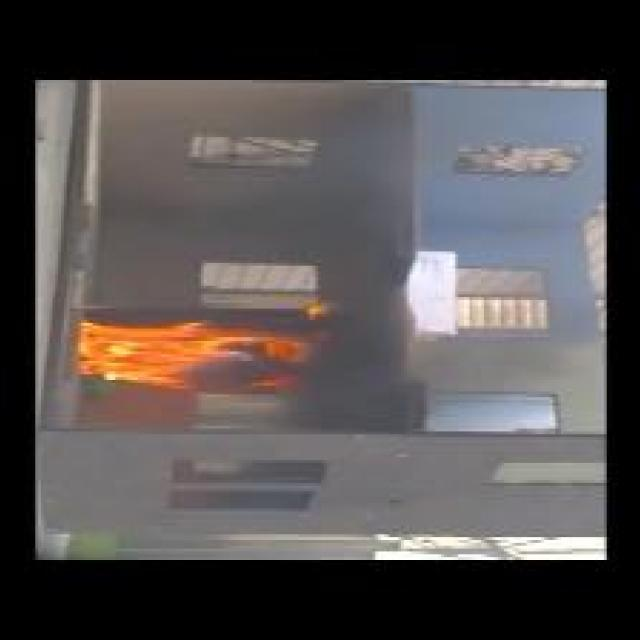Fire: (78, 321, 332, 388)
